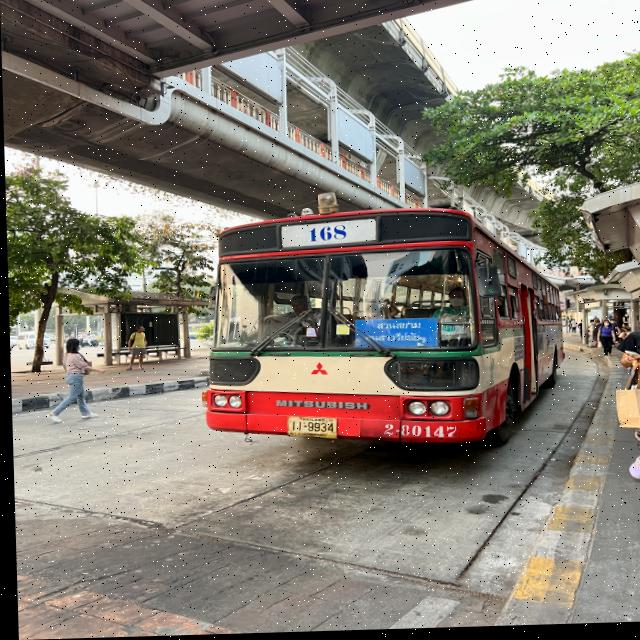BMTA-bus: (194, 207, 564, 455)
Bus-Line-Number: (296, 224, 350, 247)
Destination-Sign-Normal: (353, 321, 435, 352)
